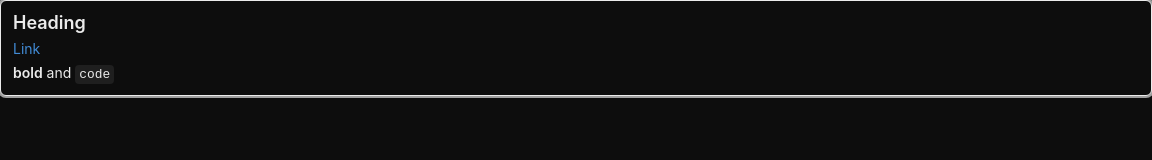
Test case: TaskMarkdownNotes › keeps the DOM stable while a pointer selection extends backward
The image size is (1152, 160).
Press the mouse on the text box labelled "bold": point(28, 72) x1=13 y1=64 x2=43 y2=81
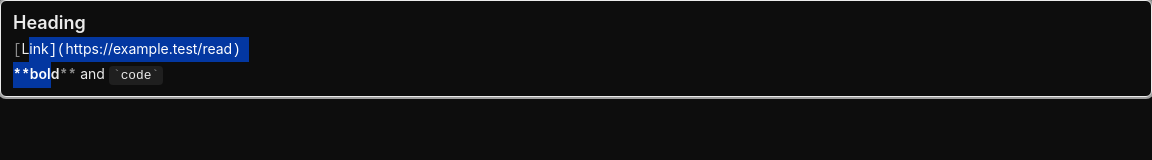
Result: the text box labelled "[Link](https://example.test/read)" has attribute data-task-note-presentation="source" at x1=13 y1=40 x2=241 y2=58
Result: the text box labelled "**bold** and `code`" has attribute data-task-note-presentation="source" at x1=13 y1=65 x2=163 y2=85
